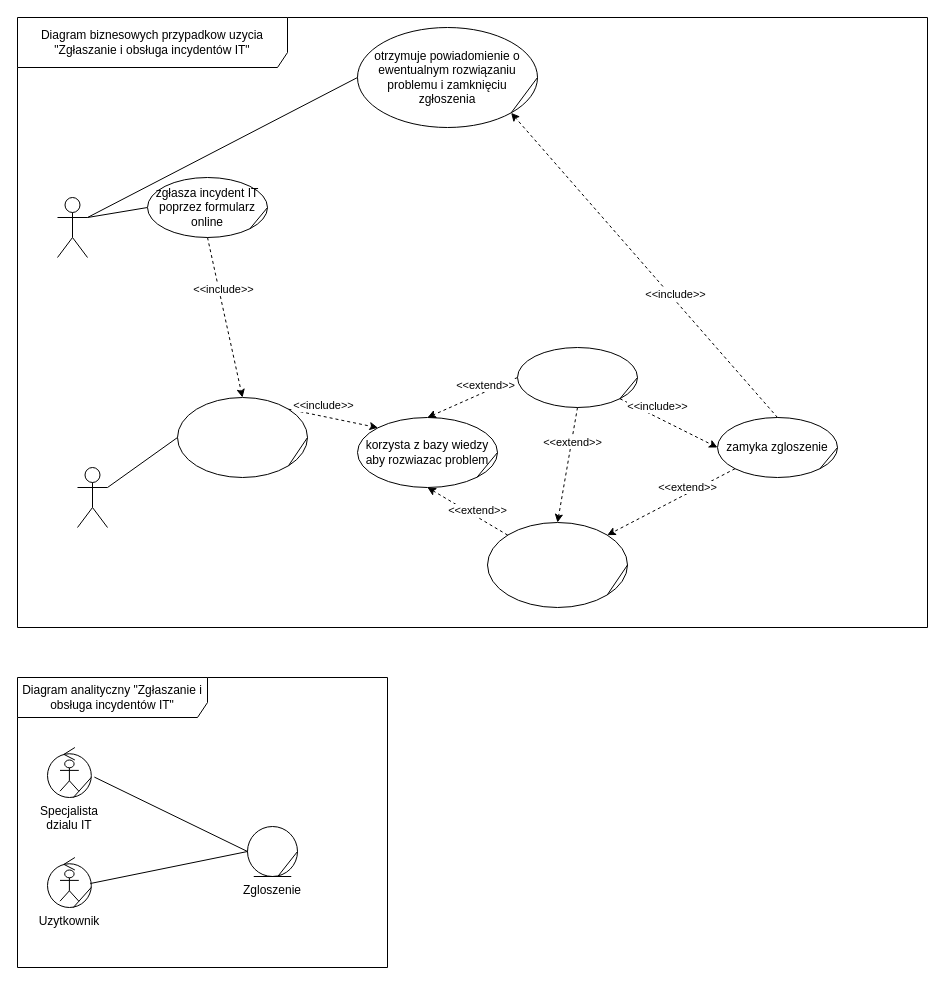
The diagram is 945 pixels wide and 985 high, and some of its shapes have lost their labels. Here are the shapes that lost their labels. From the top down, the centre of each, then its label:
(72,227): «business actor» uzytkownik
(577,377): wprowadza informacje o rozwiazaniu do systemu
(242,437): otrzymuje powiadomienie o nowym zgloszeniu i rozpoczyna analize incydentu
(92,497): «business actor» pracownik dzialu IT
(557,565): Prosze o pomocy innych członków zespołu w rozwiazaniu
